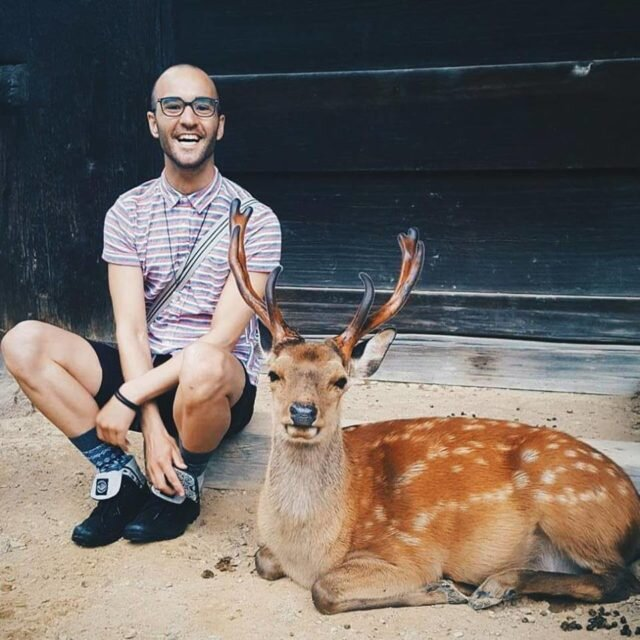human: (148, 64, 228, 172)
